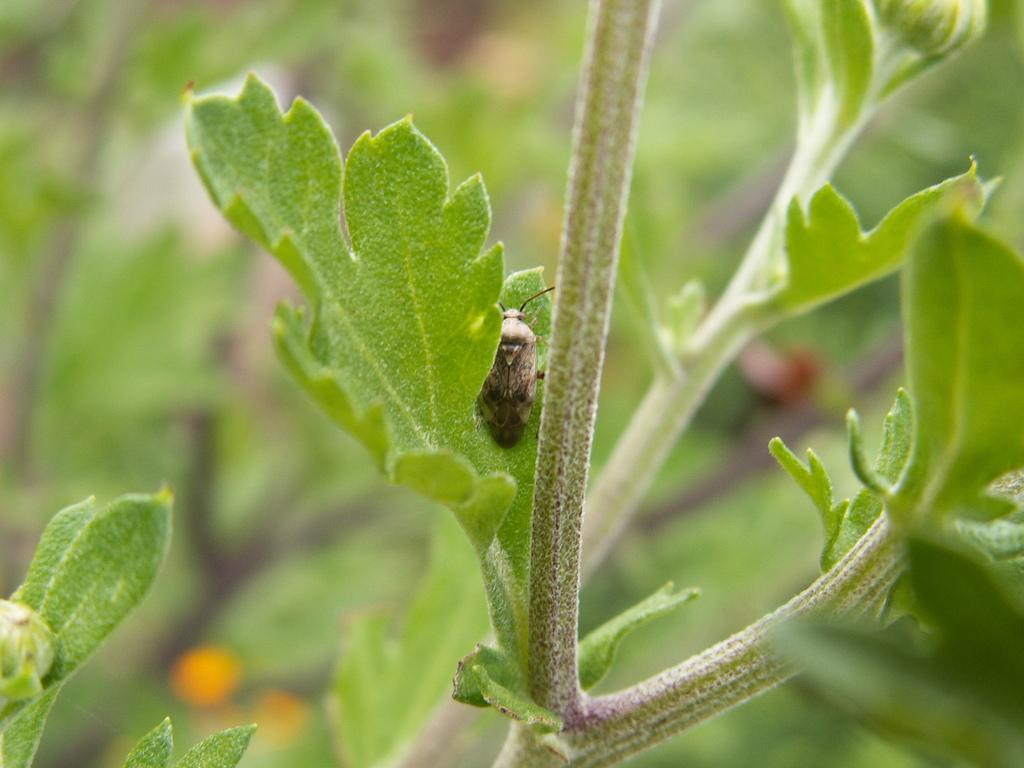plant_bugs: (439, 269, 596, 477)
